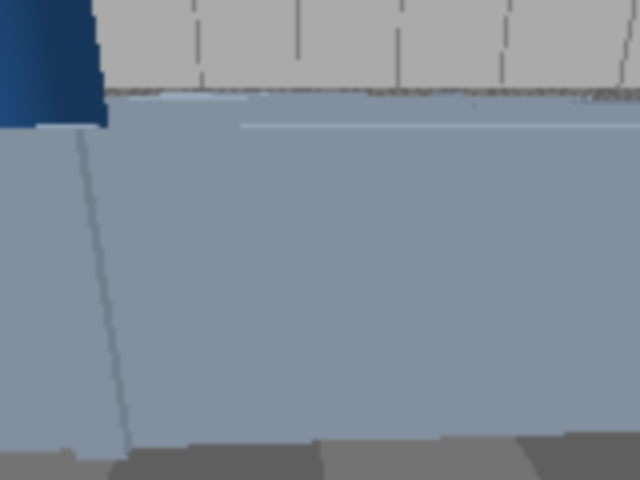person: (0, 0, 123, 316)
